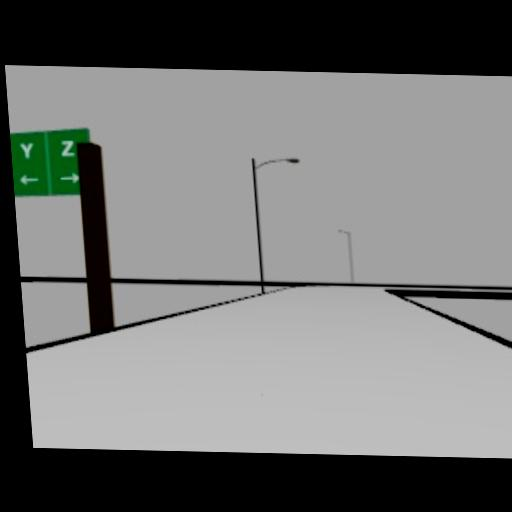Left: (18, 171, 41, 186)
Right: (59, 170, 79, 182)
Y: (18, 141, 34, 158)
Z: (59, 138, 74, 155)
